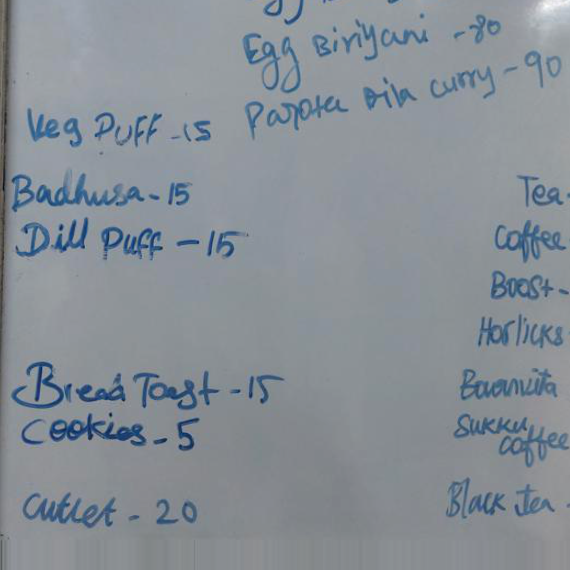Tea - 10: (507, 170, 570, 212)
badhusa -15: (7, 169, 200, 215)
black tea - 10: (445, 478, 570, 529)
boost - 35: (485, 266, 570, 305)
bournvita - 35: (455, 365, 570, 406)
bread toast - 15: (10, 360, 290, 411)
coffee - 15: (492, 219, 570, 262)
cookies - 5: (19, 412, 208, 455)
cutlet - 20: (17, 487, 209, 532)
dill puff - 15: (13, 219, 255, 269)
egg briyani - 80: (235, 12, 433, 73)
horlicks - 35: (473, 311, 570, 351)
parotta - 90: (234, 78, 499, 137)
sukku coffee - 10: (451, 412, 570, 469)
veg puff - 15: (16, 102, 215, 156)
